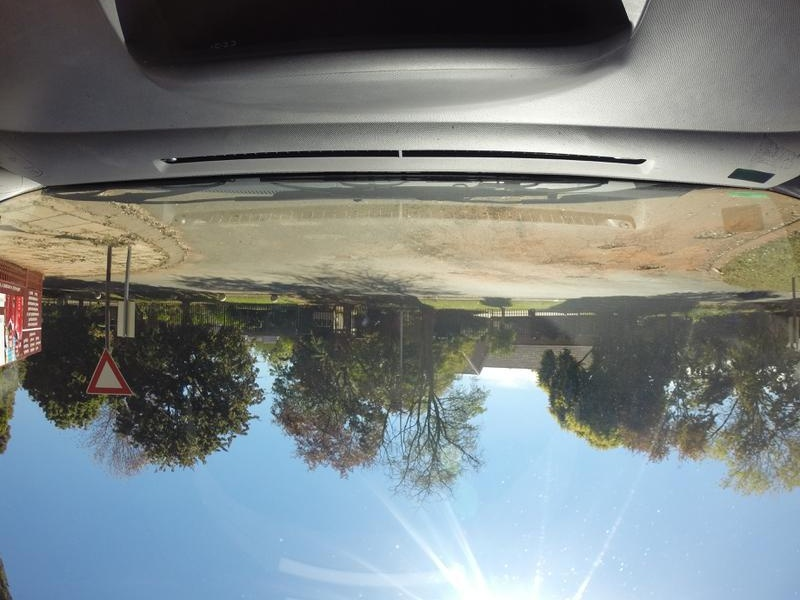pothole: (699, 217, 734, 245), (597, 235, 634, 254), (576, 259, 605, 273), (635, 260, 662, 274)
